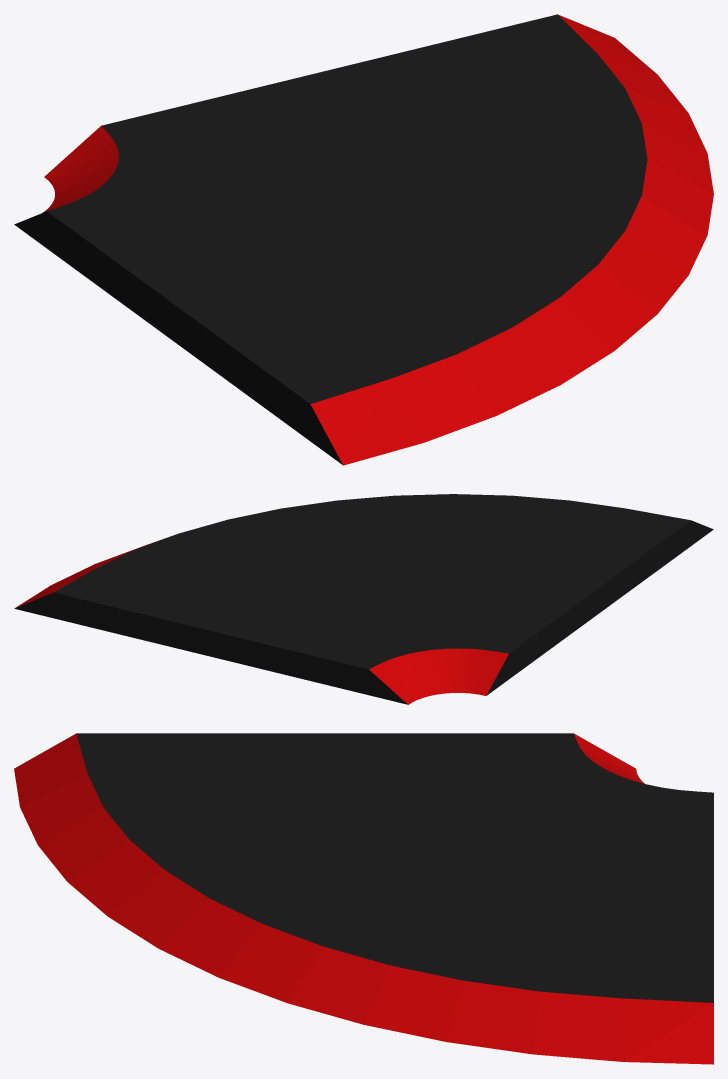
Rendered from Track.001.obj.
3 renders of one model, top to bottom at view 1: azimuth 30°, elevation 25°; view 2: azimuth 150°, elevation 25°; view 3: azimuth 270°, elevation 25°, orthographic. The views are drawn at different scales.
Parts seen in each view (by area): view 1: Track.001_Cube.003; view 2: Track.001_Cube.003; view 3: Track.001_Cube.003.
Boxes of the visible parts, bbox=[...] form: Track.001_Cube.003: bbox=[14, 14, 713, 465]; Track.001_Cube.003: bbox=[14, 494, 713, 704]; Track.001_Cube.003: bbox=[14, 733, 713, 1064].
Size of the model in its own units: 1.8 by 0.1 by 1.8.
